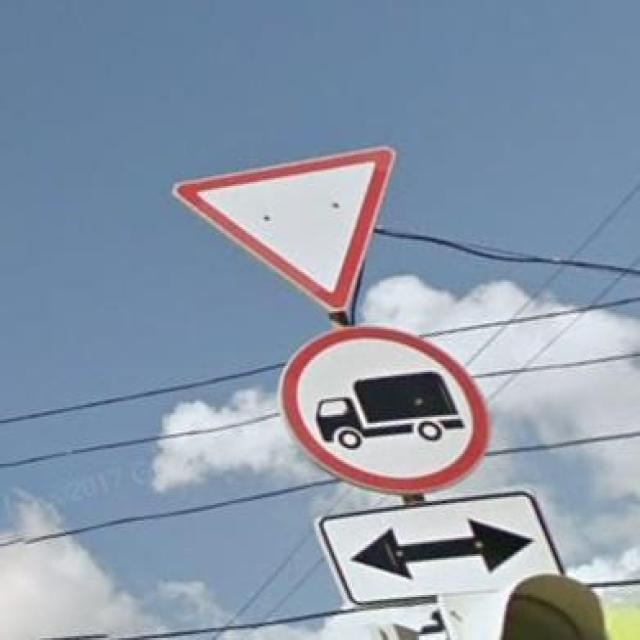give_way: (174, 147, 396, 311)
truck: (278, 325, 488, 491)
